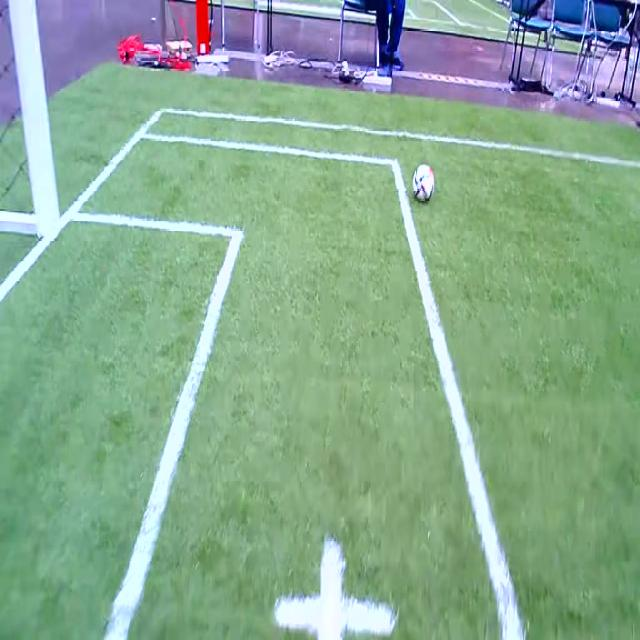ball: (413, 164, 435, 202)
